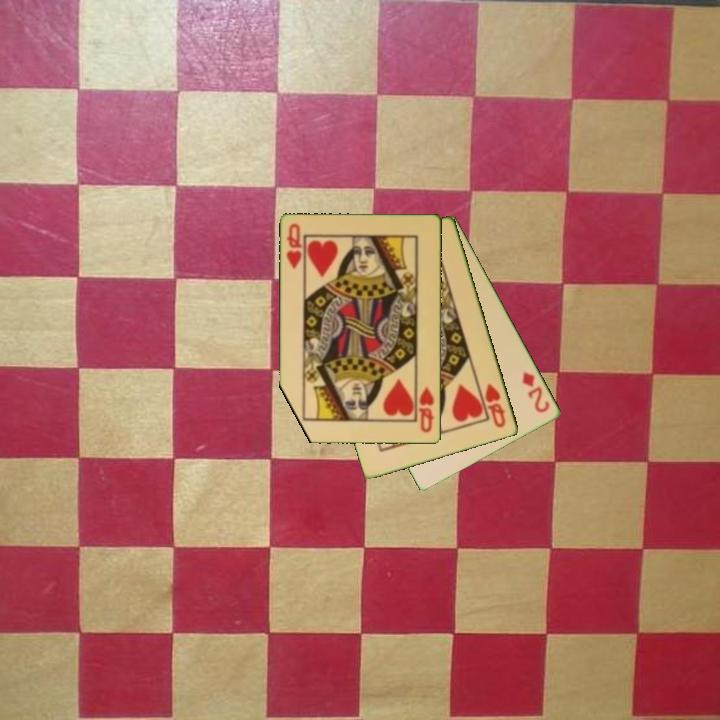2d: (519, 368, 553, 416)
Qh: (482, 380, 509, 431), (416, 383, 437, 435), (284, 220, 305, 272)
